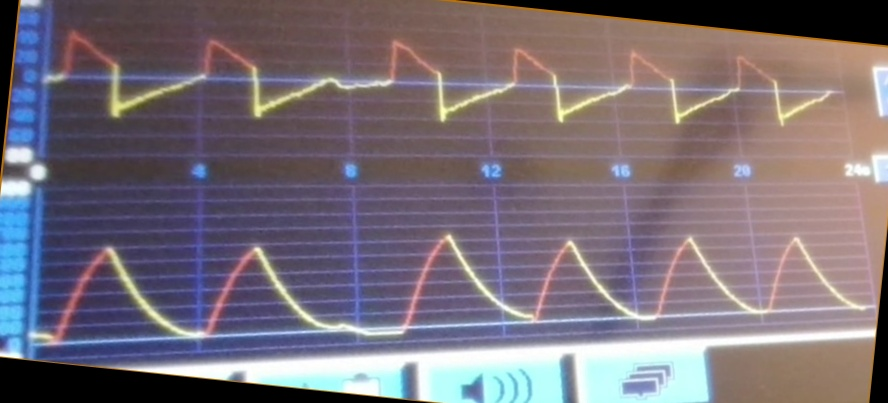Ineffective_effort Flow: (50, 23, 828, 139)
Ineffective_effort Volume: (38, 222, 863, 339)
